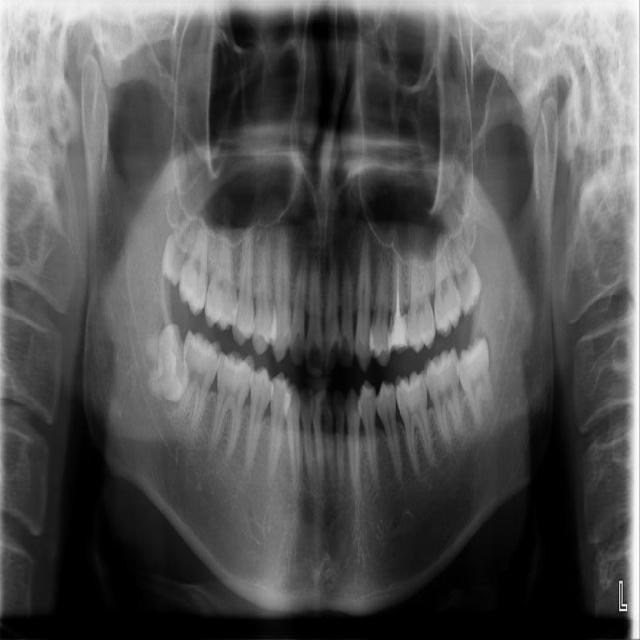Root Canal Treatment: (397, 250, 402, 310)
impacted tooth: (132, 325, 187, 401), (456, 336, 499, 432), (441, 221, 480, 314), (159, 210, 200, 283)
